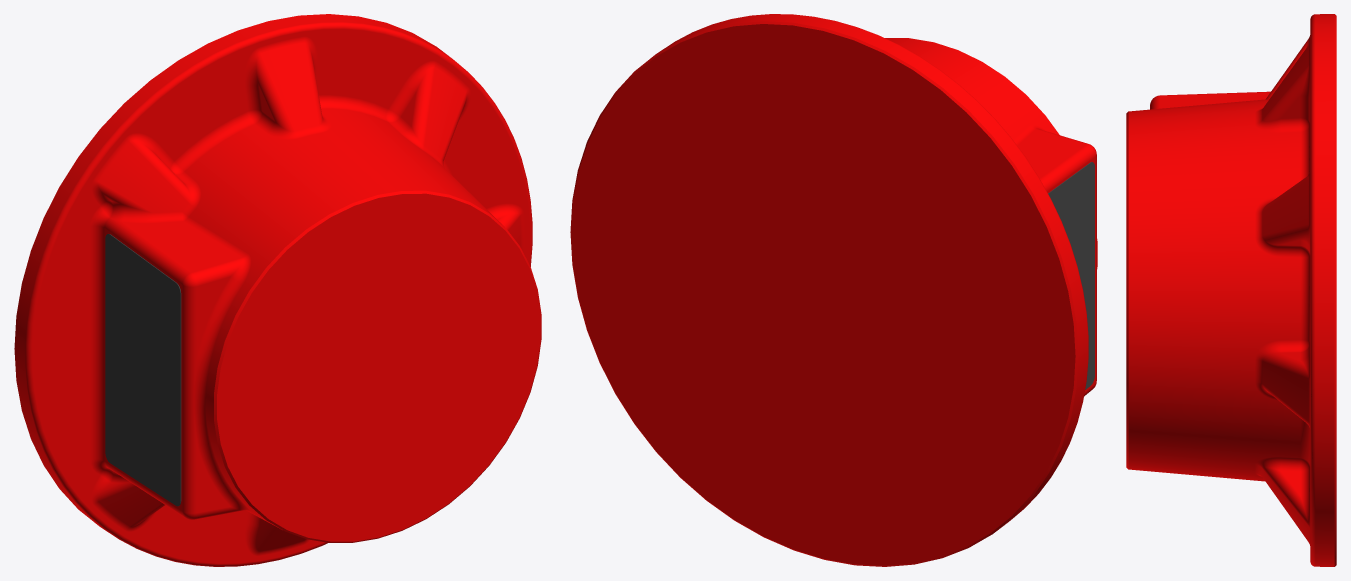
The picture shows the model from 3 angles, left to right: view 1: azimuth 30°, elevation 25°; view 2: azimuth 150°, elevation 25°; view 3: azimuth 270°, elevation 25°; orthographic projection. The views are drawn at different scales.
Visible parts, largest first — view 1: _3DGeom_171, _3DGeom_172; view 2: _3DGeom_171, _3DGeom_172; view 3: _3DGeom_171.
Boxes of the visible parts, x1,y1,x2,y2 form: _3DGeom_171: [14, 14, 541, 566]; _3DGeom_172: [105, 234, 181, 506]; _3DGeom_171: [570, 14, 1097, 566]; _3DGeom_172: [1048, 162, 1094, 389]; _3DGeom_171: [1126, 14, 1336, 566].
Bounding box in the file's own units: 0.2105 × 0.2105 × 0.08.
